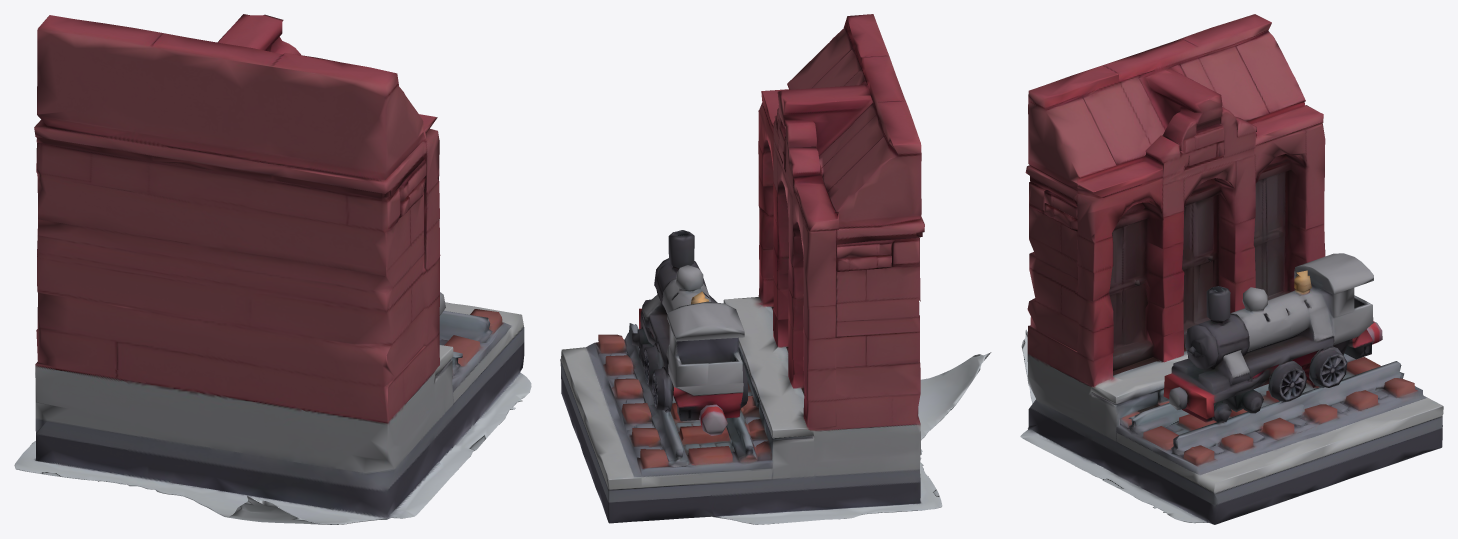
The model's file is railway.glb.
3 views of the same model, side by side, from view 1: azimuth 30°, elevation 25°; view 2: azimuth 150°, elevation 25°; view 3: azimuth 270°, elevation 25° (orthographic). The views are drawn at different scales.
Visible parts, largest first — view 1: tripo_node_ce137439-bd62-42a0-8089-d79672cd0b4e; view 2: tripo_node_ce137439-bd62-42a0-8089-d79672cd0b4e; view 3: tripo_node_ce137439-bd62-42a0-8089-d79672cd0b4e.
Boxes of the visible parts, x1=… form: tripo_node_ce137439-bd62-42a0-8089-d79672cd0b4e: x1=14, y1=14, x2=531, y2=524; tripo_node_ce137439-bd62-42a0-8089-d79672cd0b4e: x1=560, y1=14, x2=991, y2=524; tripo_node_ce137439-bd62-42a0-8089-d79672cd0b4e: x1=1020, y1=14, x2=1443, y2=524.
Bounding box in the file's own units: 1.09 × 0.9405 × 1.06.
Materials: 1 (1 with a texture image).
